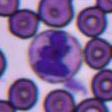N: (28, 30, 82, 82)
